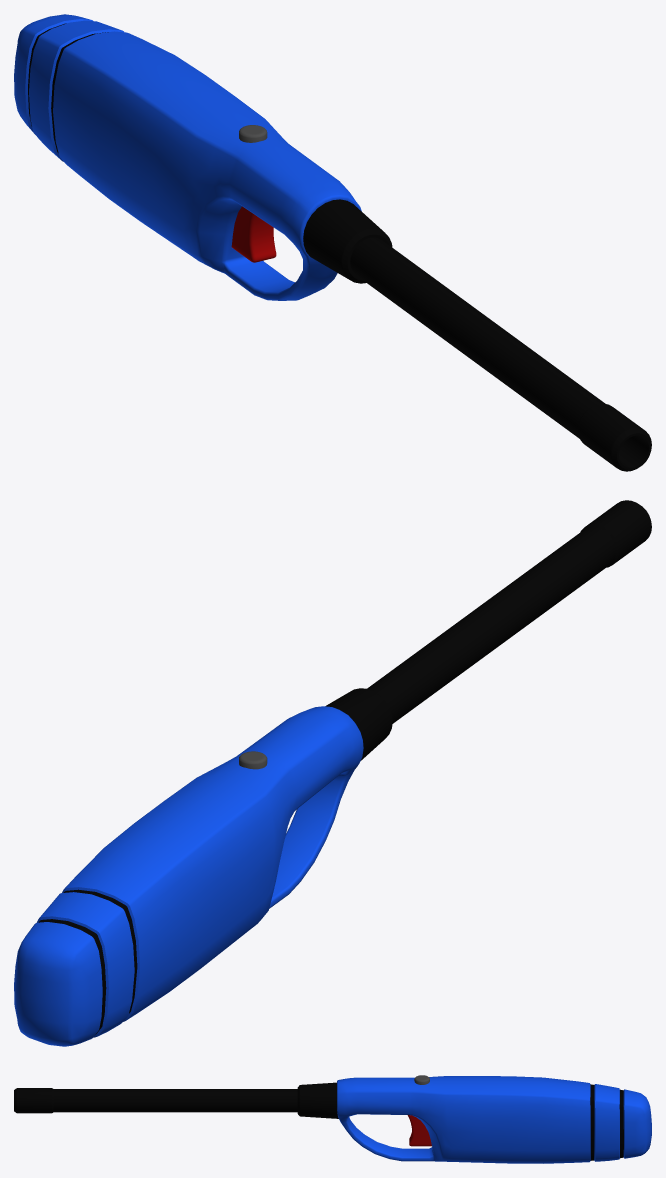
The model's file is Lighter.fbx.
3 renders of one model, top to bottom at view 1: azimuth 30°, elevation 25°; view 2: azimuth 150°, elevation 25°; view 3: azimuth 270°, elevation 25°, orthographic. The views are drawn at different scales.
Parts seen in each view (by area): view 1: Lighter, Lighter Trigger; view 2: Lighter; view 3: Lighter, Lighter Trigger.
Part boxes in pixels (x1,y1,x2,y2): Lighter: [14, 14, 651, 471]; Lighter Trigger: [231, 206, 276, 262]; Lighter: [14, 500, 651, 1046]; Lighter: [14, 1075, 651, 1163]; Lighter Trigger: [407, 1115, 431, 1146].
Bounding box in the file's own units: 2.48 × 3.97 × 27.76.
